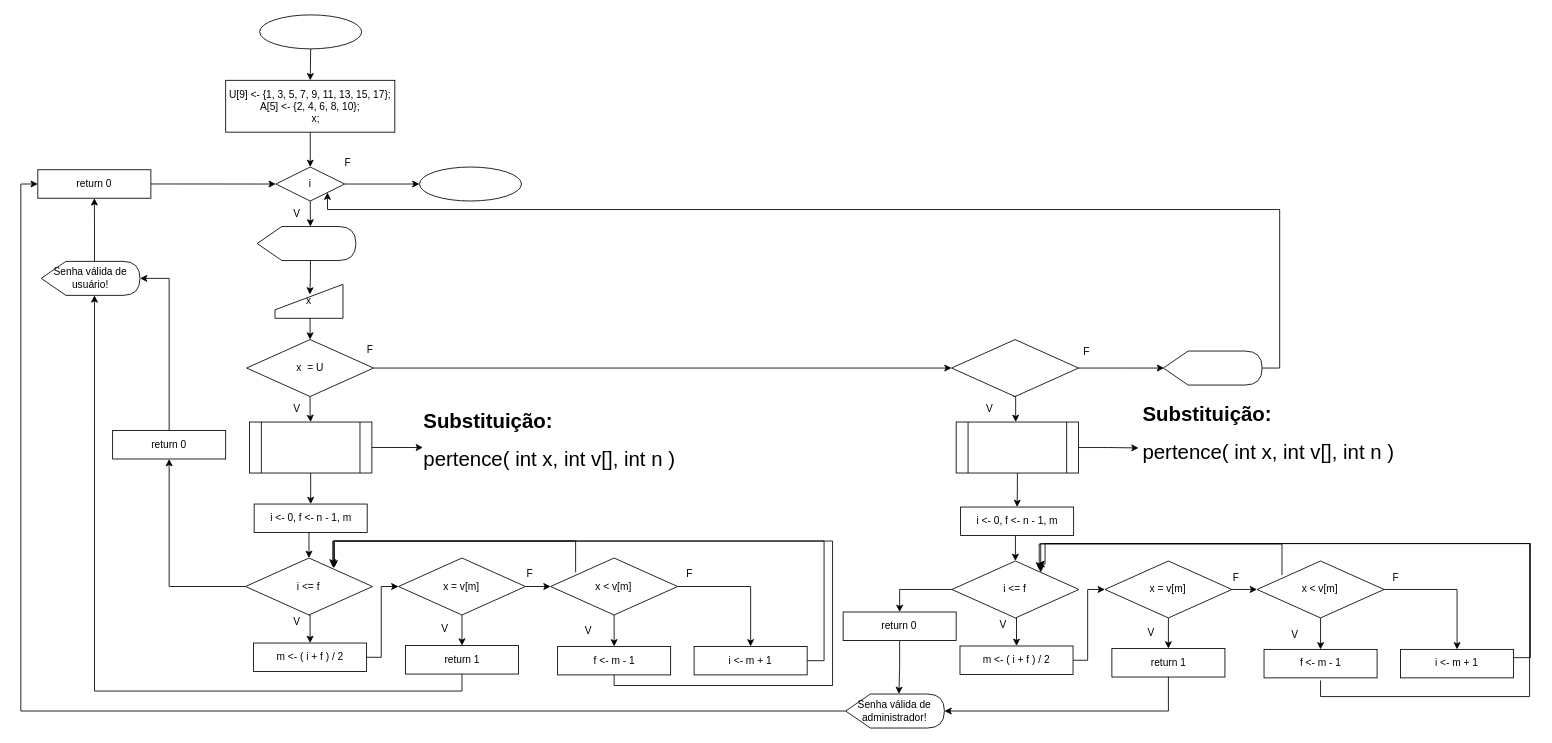
Image size: 1552x743. Some labels were removed from this diagram. Here are the shapes that lost their labels. From the top down, the centre of each, then its label:
At point 310,31: "Início".
At point 470,183: "Fim".
At point 306,243: "Senha:".
At point 1015,368: "x = A".
At point 1212,367: "Senha inválida!".
At point 310,447: "pertence( x, U, 9 )".
At point 1017,447: "pertence( x, U, 5 )".
